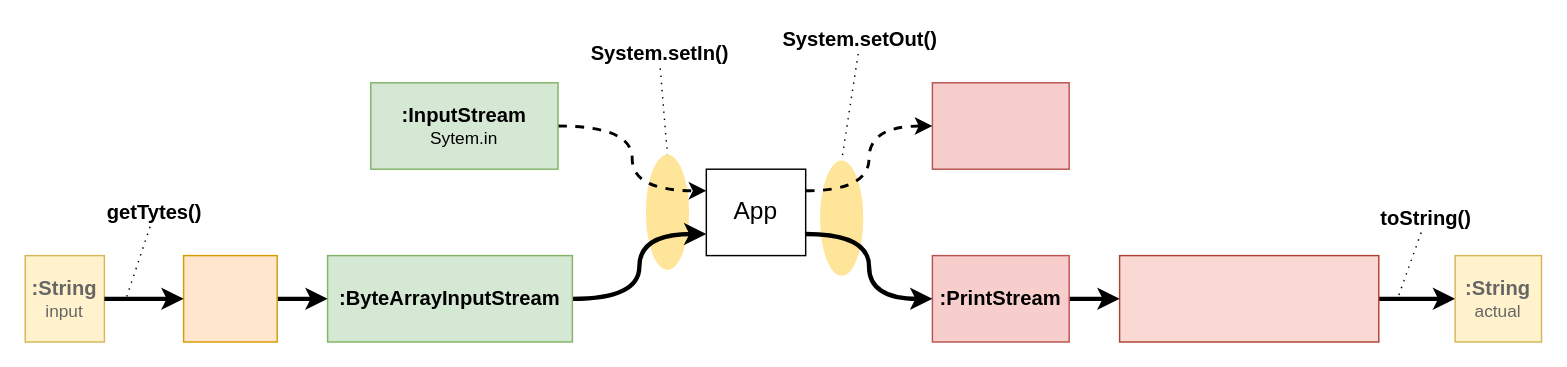
This 1567x367 diagram has some shape labels left out. Here are the shapes that lost their labels. From the top down, the centre of each, then its label:
At point (1000, 125): ":PrintStream System.out".
At point (229, 298): ":byte[]".
At point (1248, 298): ":ByteArrayOutputStream testOut".
